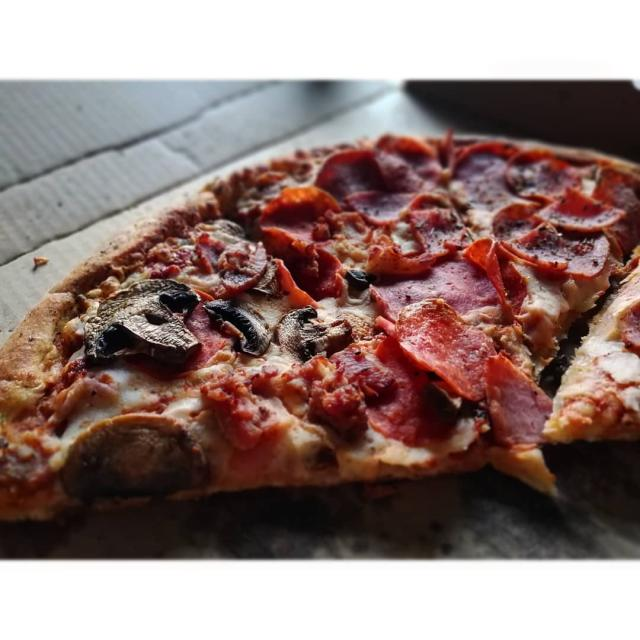mushrooms: (66, 420, 207, 498), (88, 277, 202, 367), (204, 298, 275, 359), (278, 306, 354, 360), (350, 266, 370, 292)
pepperoni: (393, 300, 497, 403), (491, 203, 610, 276), (376, 264, 496, 317), (255, 185, 342, 249), (461, 238, 531, 307), (453, 147, 542, 198), (536, 188, 627, 232), (506, 149, 581, 200), (347, 185, 443, 224), (374, 138, 439, 186), (416, 199, 467, 254), (316, 153, 382, 194), (274, 261, 318, 311), (295, 249, 339, 295)
pizza: (0, 135, 640, 520)
